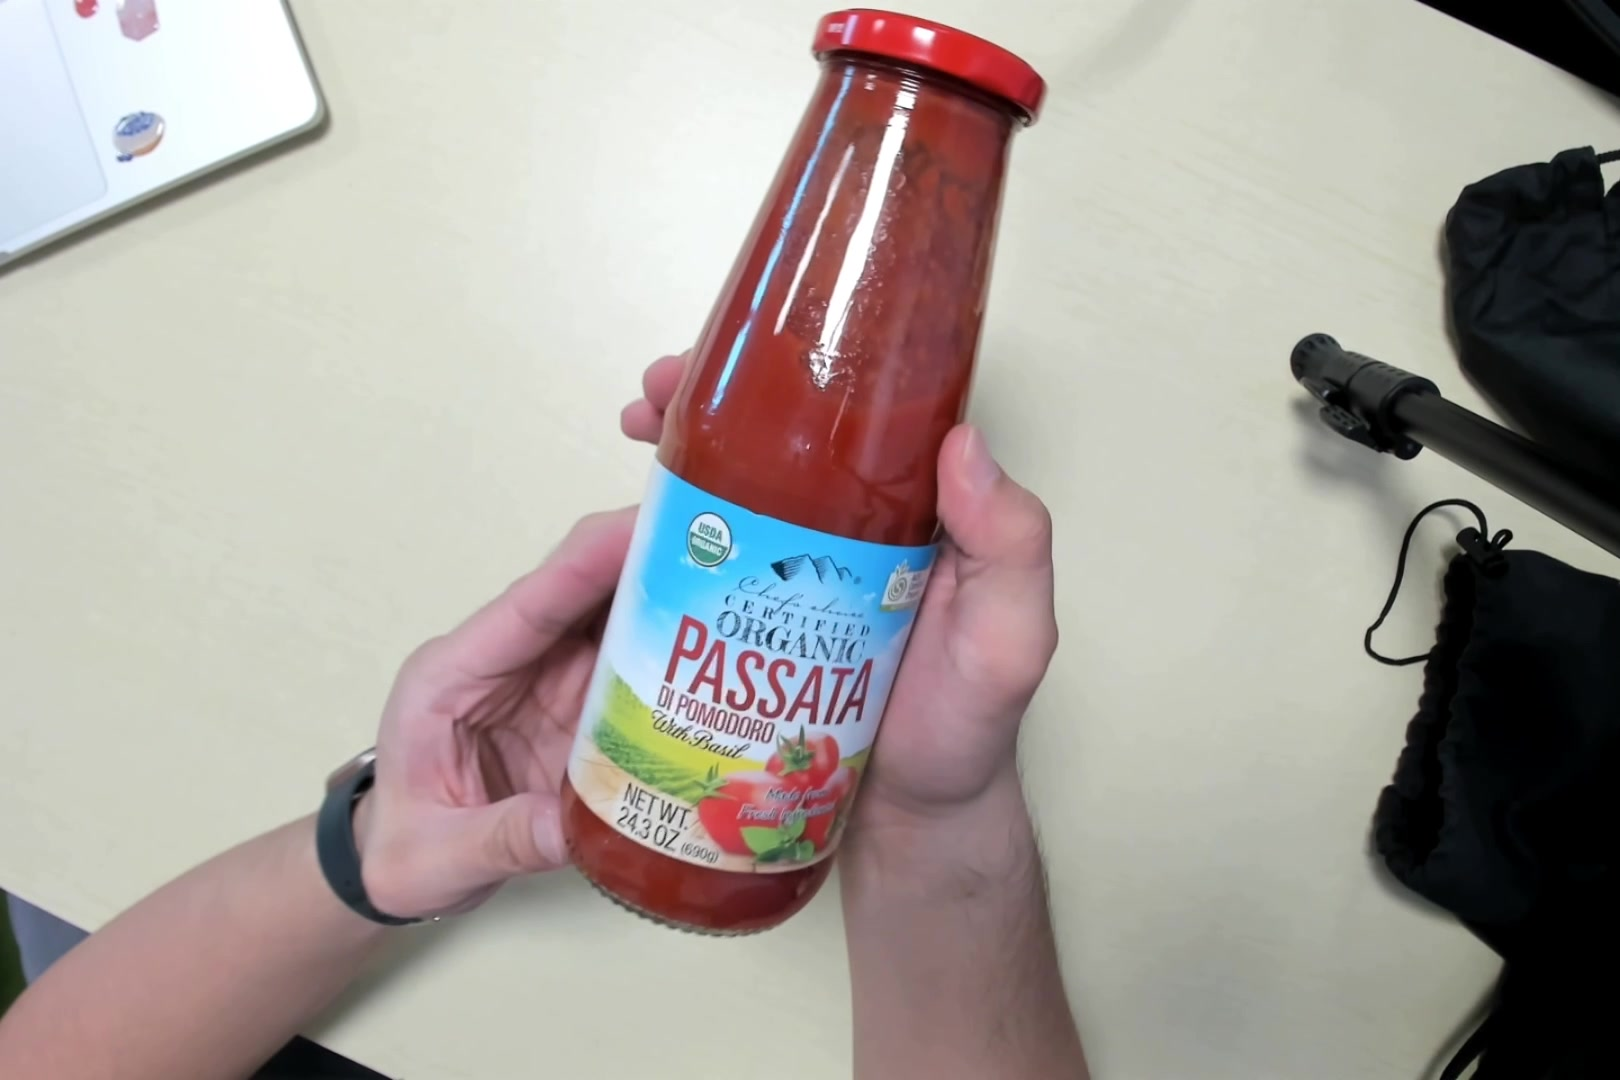PastaSauce_600-699g_NonHalal_NonHealthy: (545, 5, 1047, 935)
